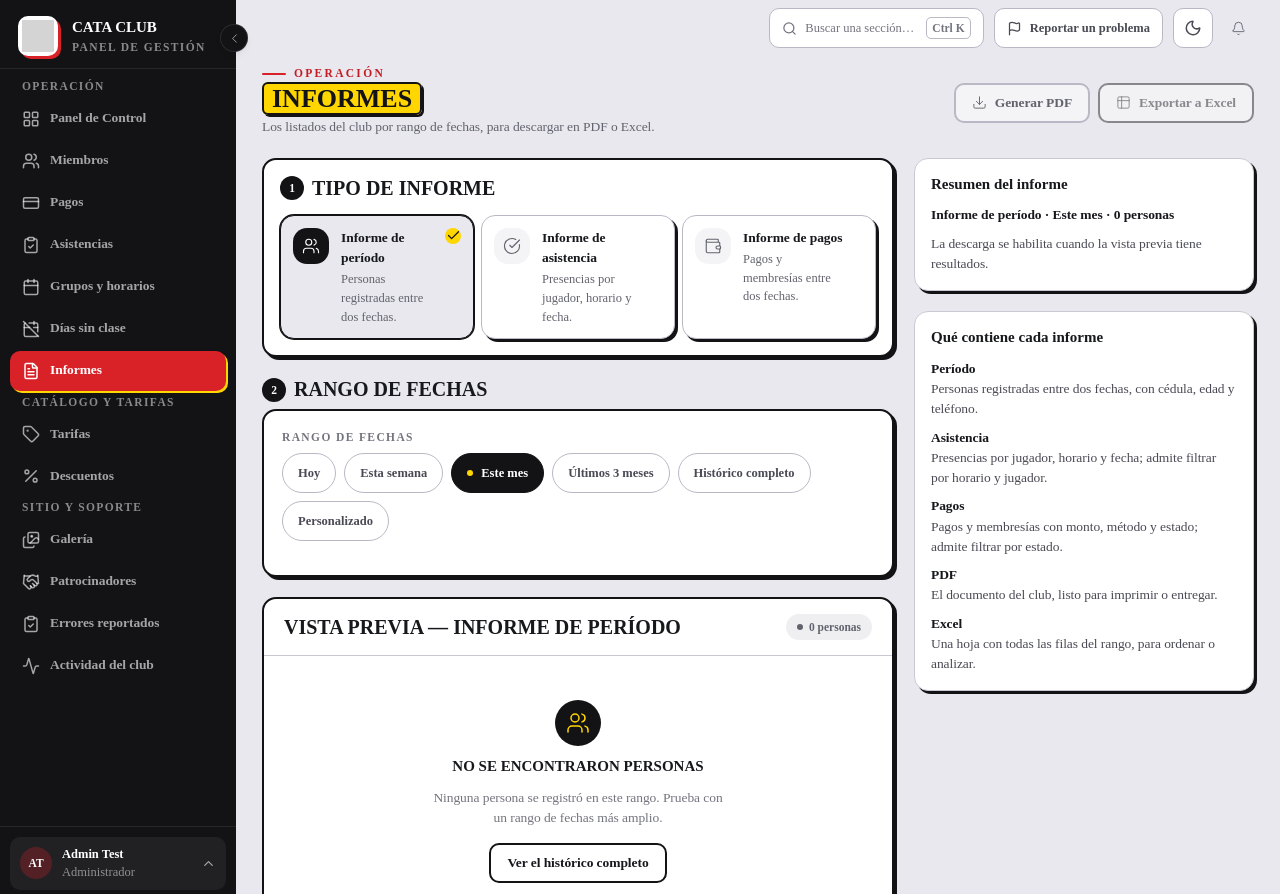
ReportsPage — preview area › asks for both dates and keeps downloads off on an empty custom range in asistencia (ADMB-31)
Click the radio button labelled "asistencia" at (578, 277), box [481,215,675,339]
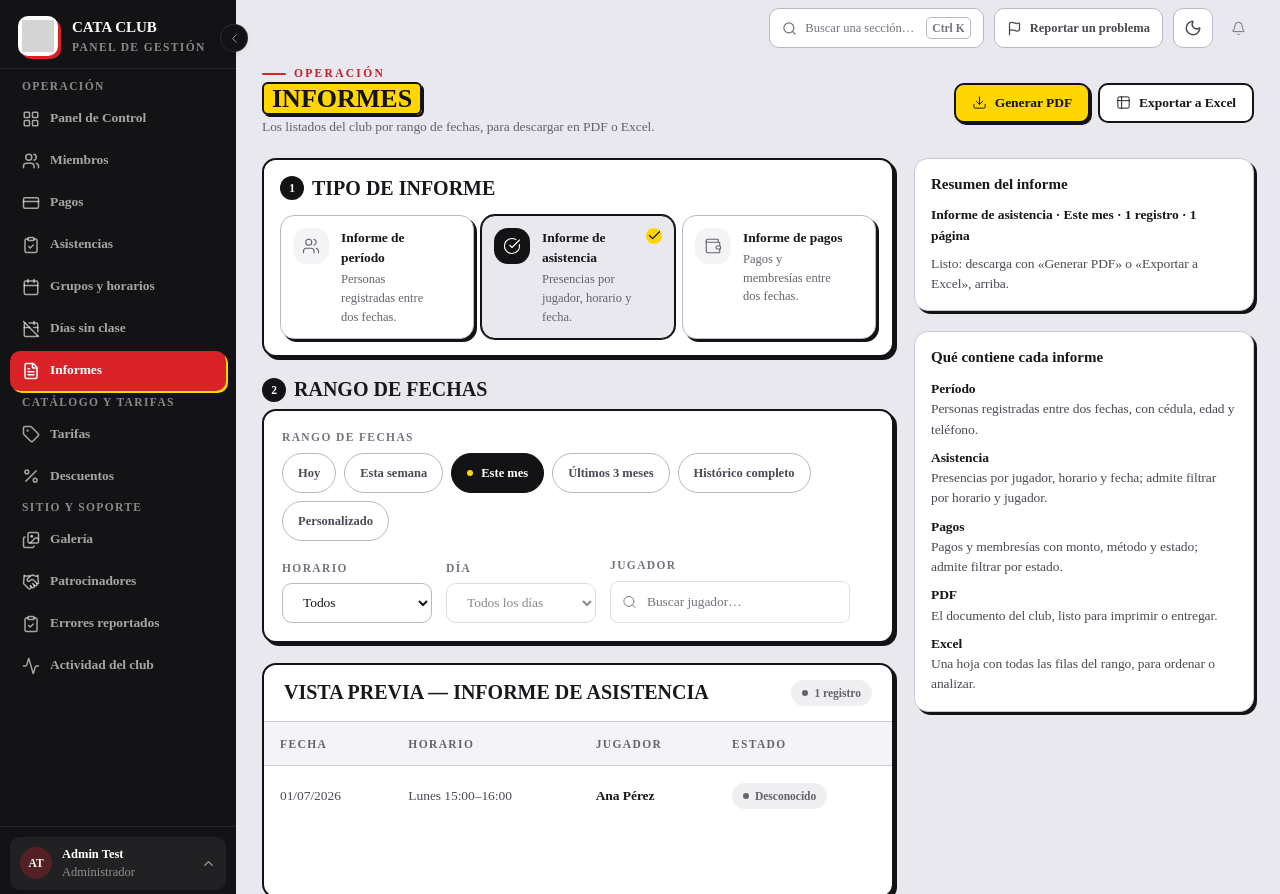
Click the button "Personalizado" at (336, 522), box [282,502,389,542]
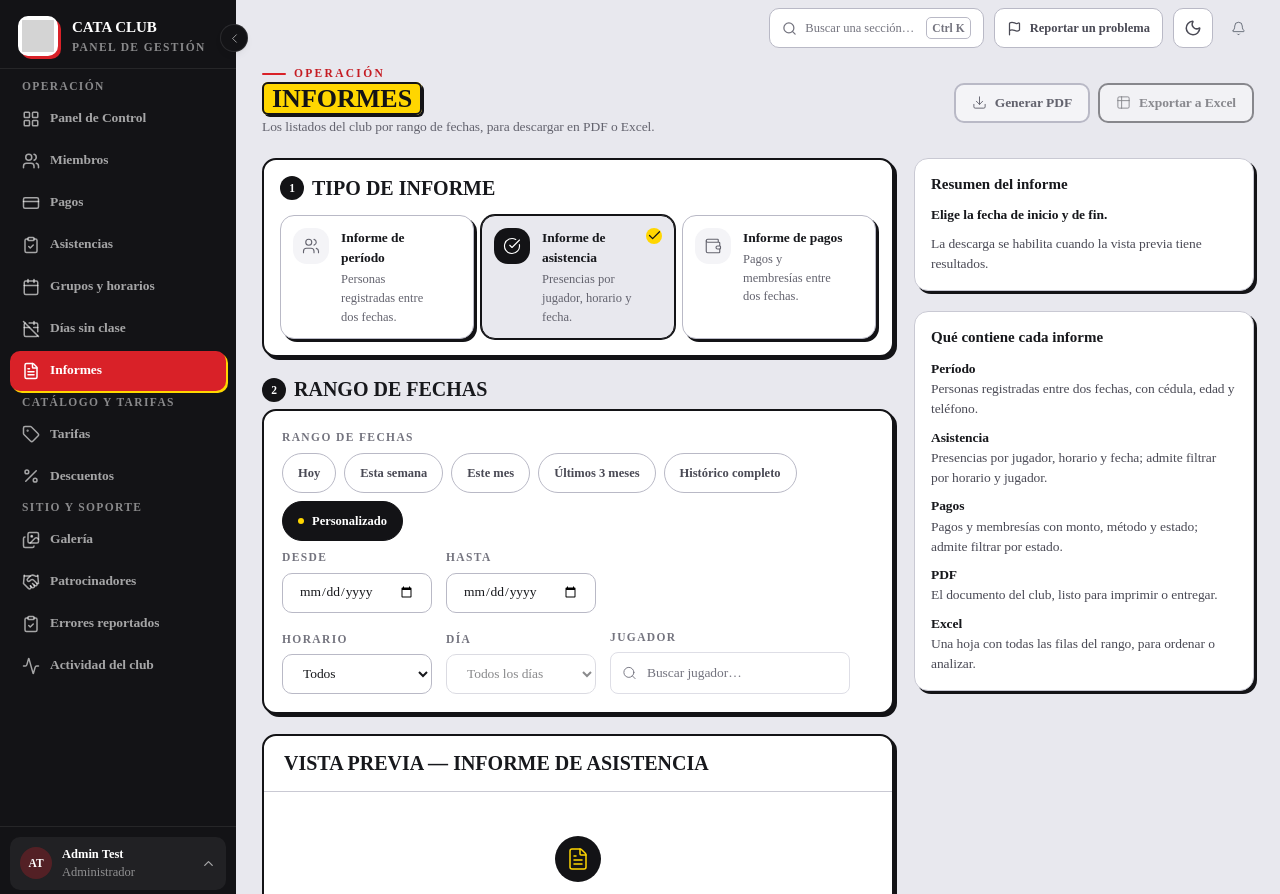
Result: the button "Generar PDF" is disabled at [954,83,1090,123]
Result: the button "Exportar a Excel" is disabled at [1098,83,1254,123]
